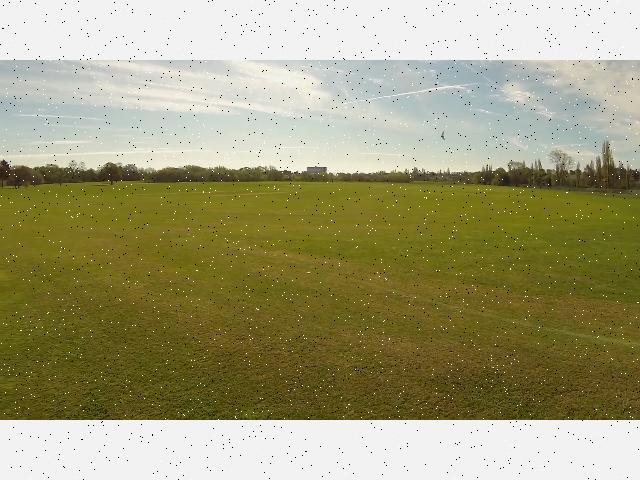Anti-Drone: (438, 126, 458, 150)
